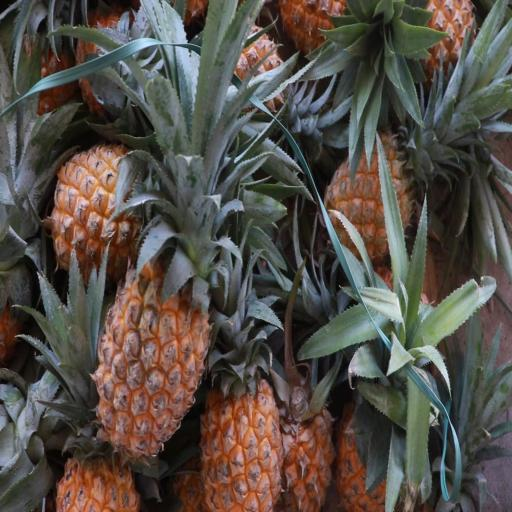Pineapple - v8 v1: (90, 222, 219, 465), (48, 130, 187, 290), (321, 124, 420, 278), (194, 367, 283, 512), (54, 366, 142, 512), (282, 376, 341, 512)
